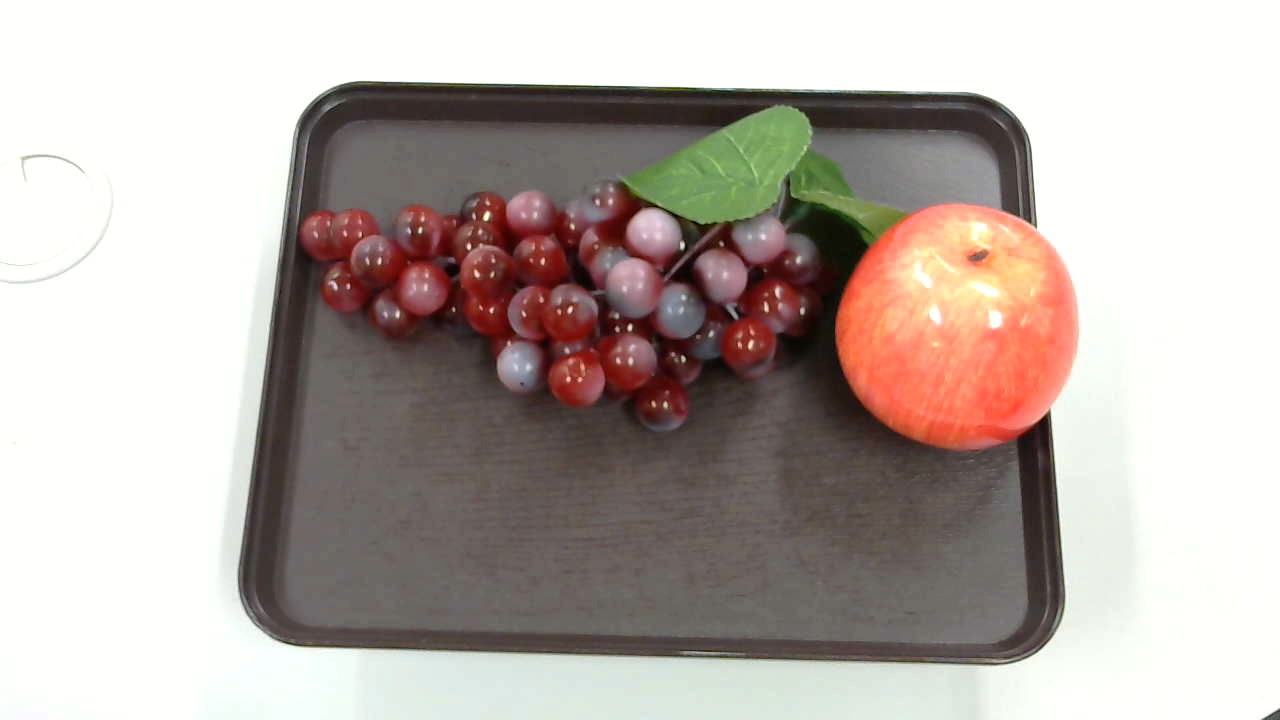grape: (303, 107, 896, 432)
red apple: (829, 202, 1083, 456)
